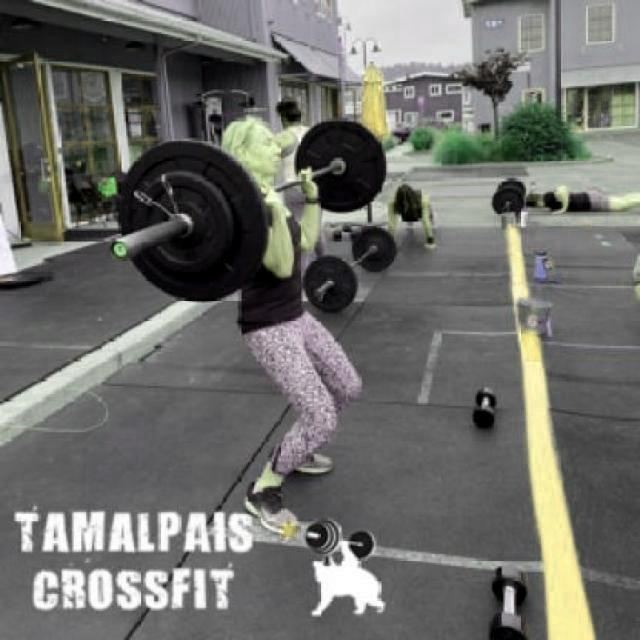barbell: (106, 131, 277, 307)
